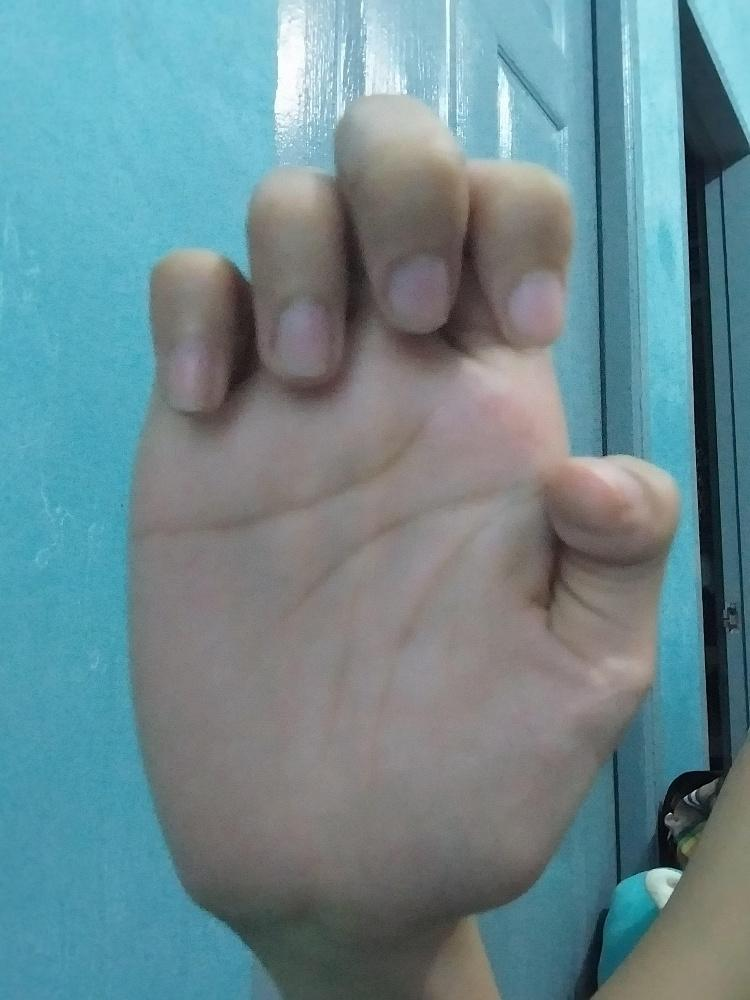e: (128, 87, 675, 937)
